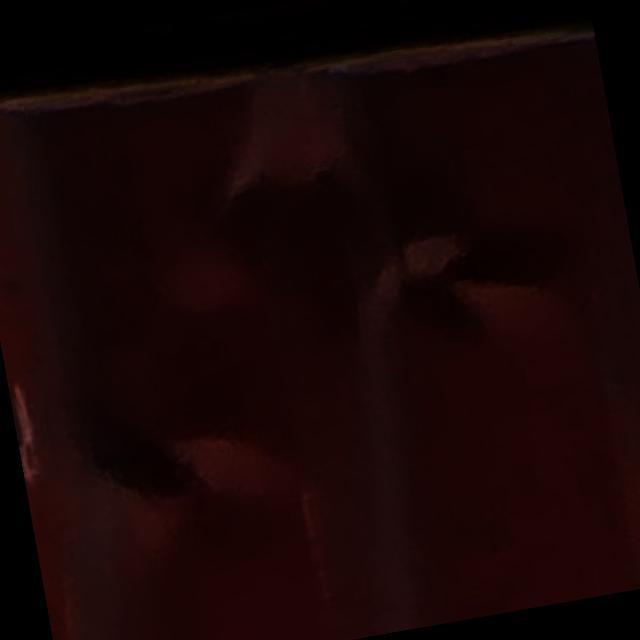dent: (1, 1, 640, 609)
